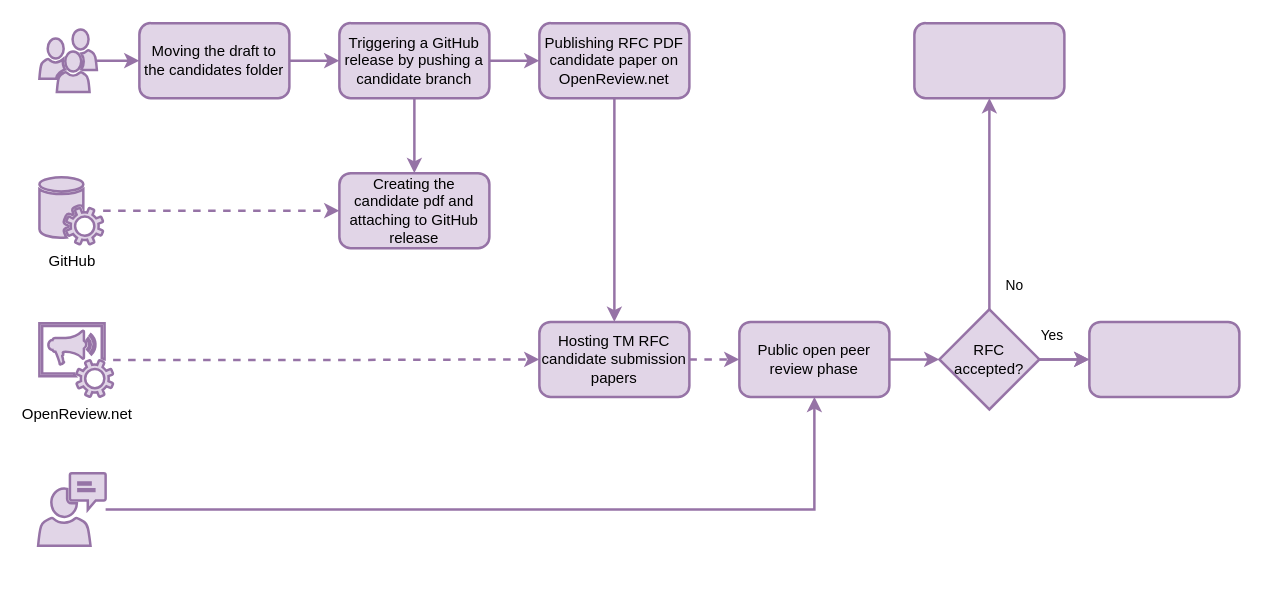
This 1263x593 diagram has some shape labels left out. Here are the shapes that lost their labels. From the top down, the box of each, then its label:
(38, 28, 98, 92): RFC Team
(912, 21, 1065, 99): Preparing candidate for a new drafting phase
(1088, 320, 1240, 398): Release candidate
(36, 471, 106, 546): Reviewer
